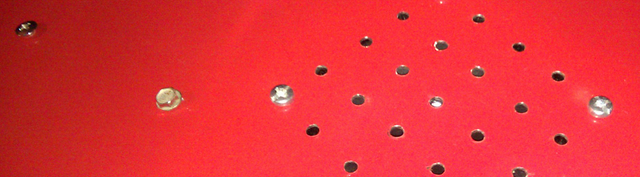bolt: (155, 86, 184, 112)
hole: (428, 161, 447, 176), (470, 128, 486, 144), (350, 92, 367, 107), (388, 124, 406, 138), (553, 131, 569, 146), (513, 101, 529, 116), (343, 159, 359, 174), (469, 65, 486, 79), (395, 63, 412, 77), (305, 124, 322, 138), (511, 165, 530, 177), (550, 70, 566, 84), (358, 36, 374, 49), (433, 40, 450, 52), (512, 41, 527, 54), (315, 64, 329, 77), (471, 13, 486, 25), (396, 11, 410, 23)
screw: (586, 93, 615, 120), (268, 84, 296, 108), (16, 18, 39, 37), (427, 95, 444, 110)
